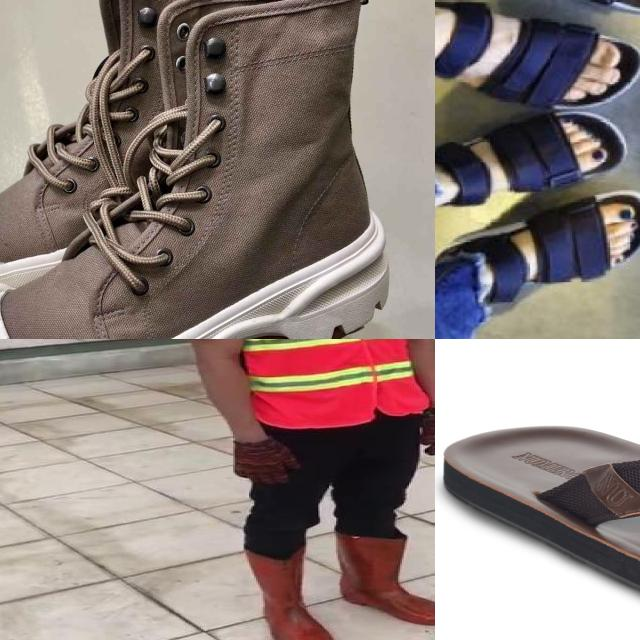Sandals: (0, 0, 417, 339), (441, 422, 640, 634), (435, 180, 640, 336), (435, 92, 640, 214)
boots: (331, 525, 435, 627), (243, 549, 334, 640)
person: (191, 339, 435, 640)
vest: (242, 339, 427, 429)
